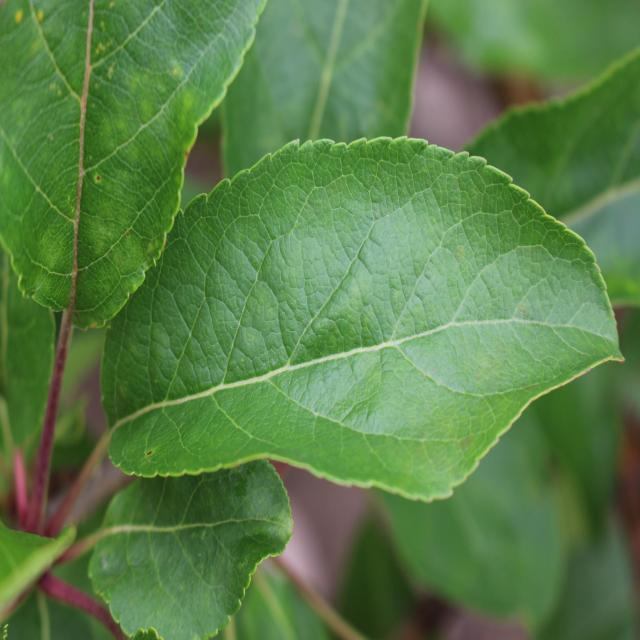Rust: (89, 160, 105, 190), (11, 6, 26, 32)
